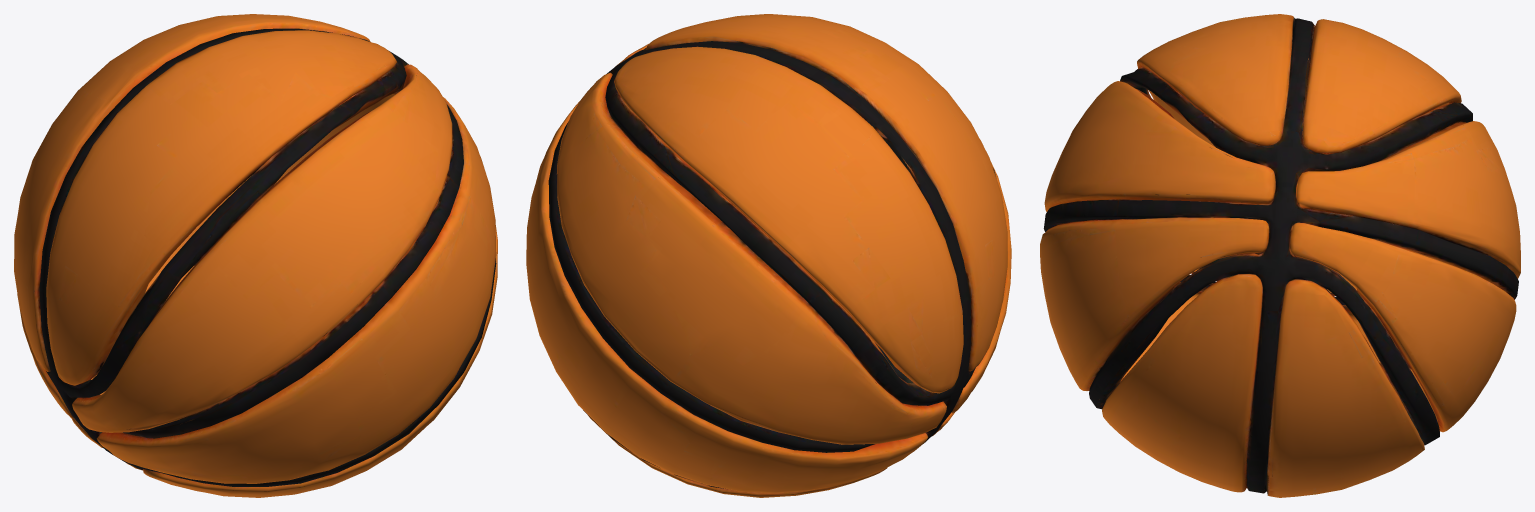
The model's file is ball.glb.
3 views of the same model, side by side, from view 1: azimuth 30°, elevation 25°; view 2: azimuth 150°, elevation 25°; view 3: azimuth 270°, elevation 25° (orthographic).
Parts seen in each view (by area): view 1: tripo_node_4acbc8fc-9c35-46a7-aabc-368c8576a500; view 2: tripo_node_4acbc8fc-9c35-46a7-aabc-368c8576a500; view 3: tripo_node_4acbc8fc-9c35-46a7-aabc-368c8576a500.
Boxes of the visible parts, bbox=[...] form: tripo_node_4acbc8fc-9c35-46a7-aabc-368c8576a500: bbox=[14, 14, 497, 497]; tripo_node_4acbc8fc-9c35-46a7-aabc-368c8576a500: bbox=[526, 14, 1011, 497]; tripo_node_4acbc8fc-9c35-46a7-aabc-368c8576a500: bbox=[1040, 14, 1520, 497].
Size of the model in its own units: 0.998 by 0.998 by 0.998.
Materials: 1 (1 with a texture image).
